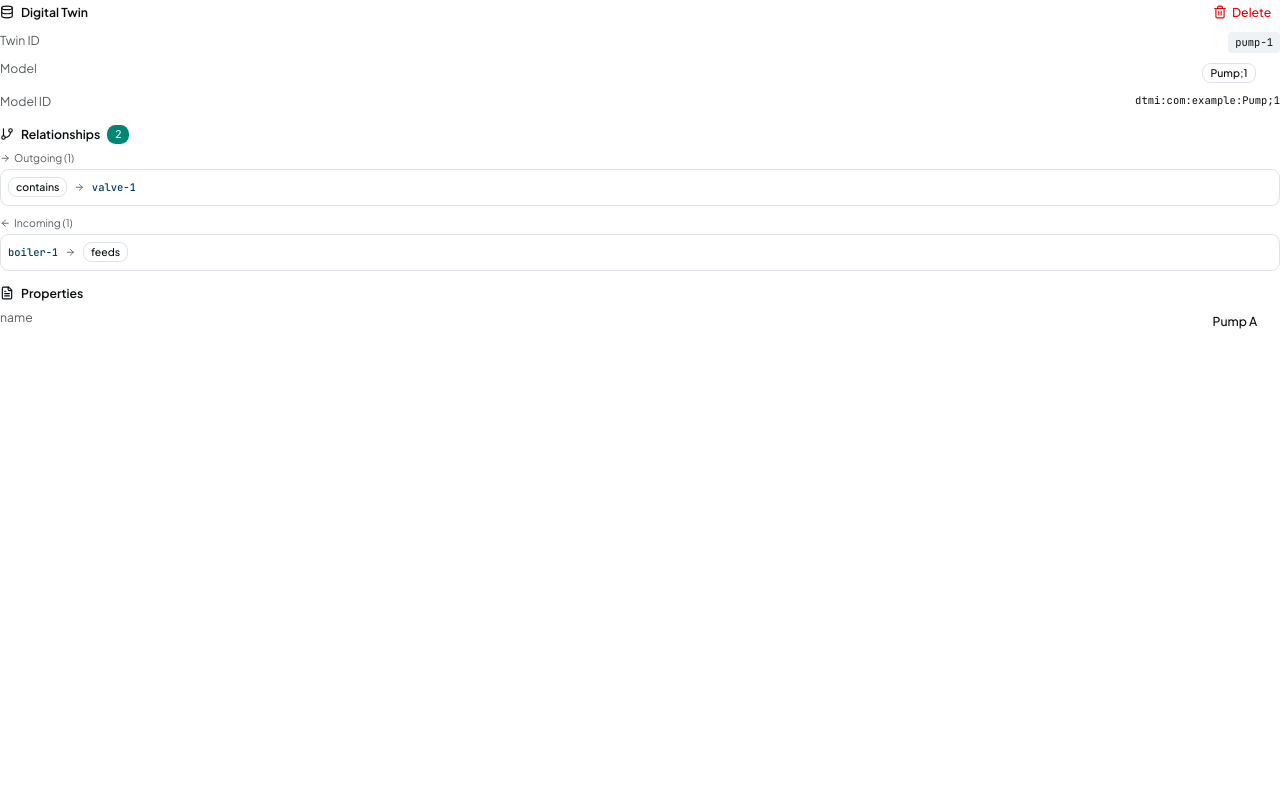
TwinInspector — delete twin › warns that relationships will be deleted too
Expected: the button "valve-1" is shown, [92,180,136,194]
Click the button with aria-label "Delete twin" at (1242, 12), box [1204,0,1279,24]
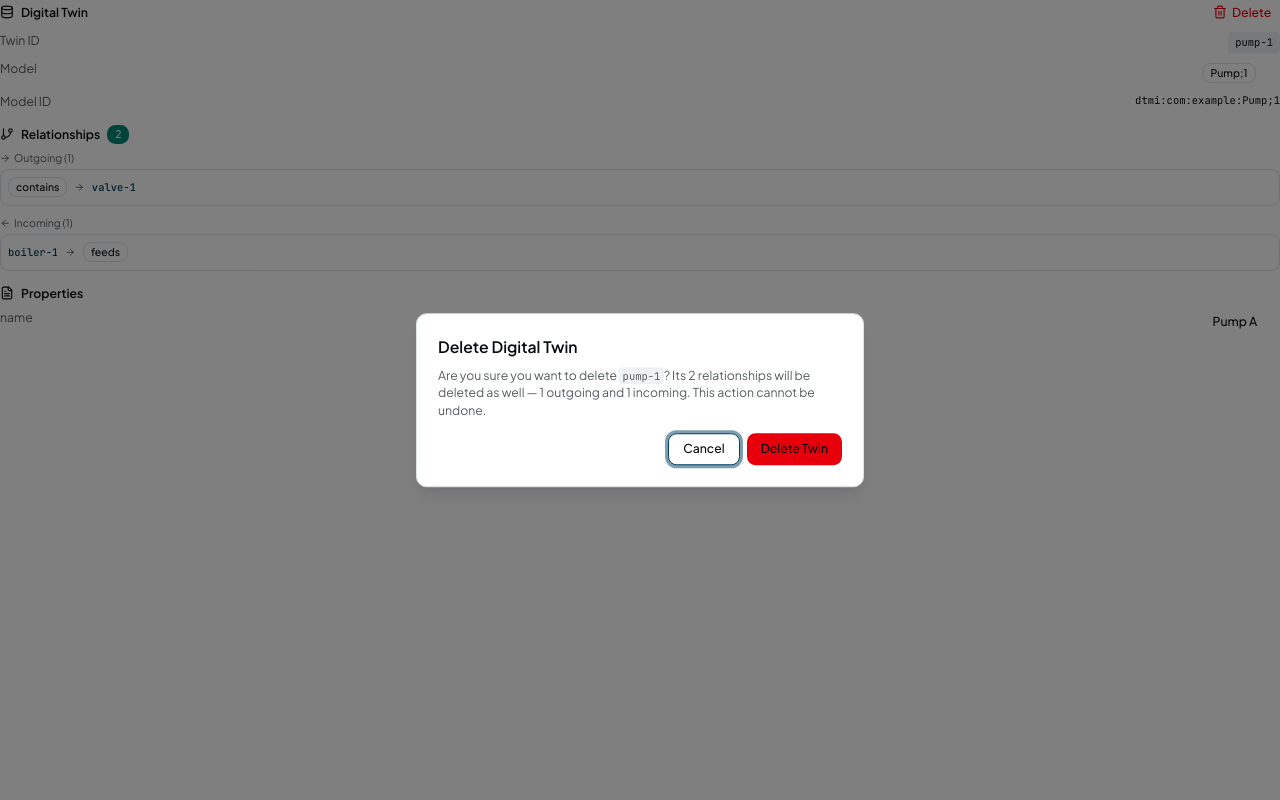
Now the dialog "Delete Digital Twin" shows "its 2 relationships will be deleted", box [416,313,864,487]
Now the dialog "Delete Digital Twin" shows "1 outgoing and 1 incoming", box [524,384,687,400]
